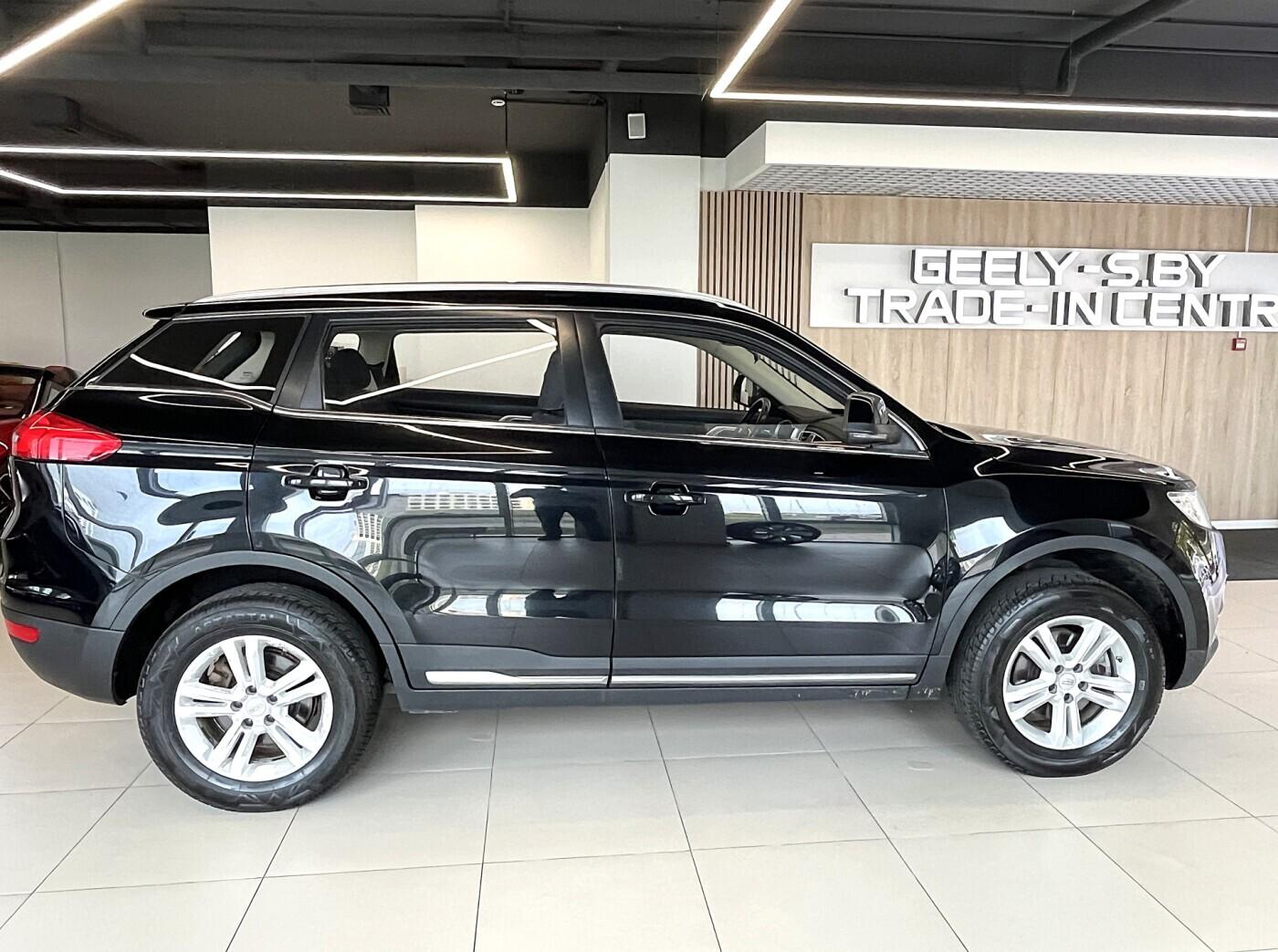Atlas_2016-2023: (0, 279, 1228, 824)
